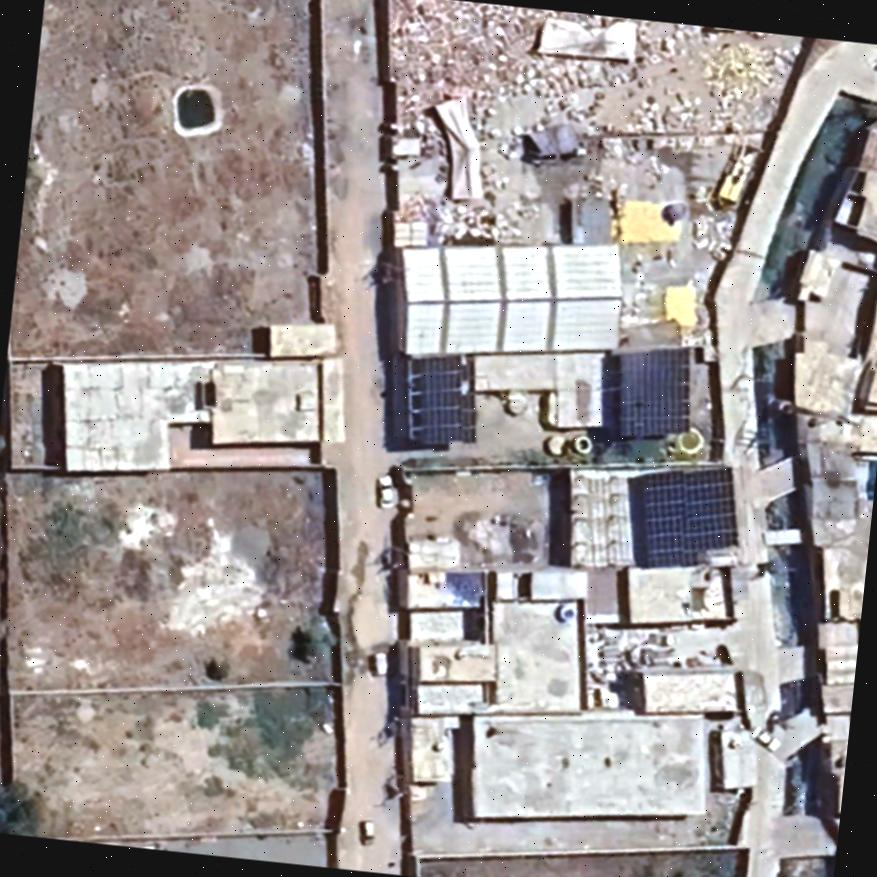Solarpanel: (628, 463, 742, 569), (609, 345, 692, 442), (410, 353, 472, 451)
